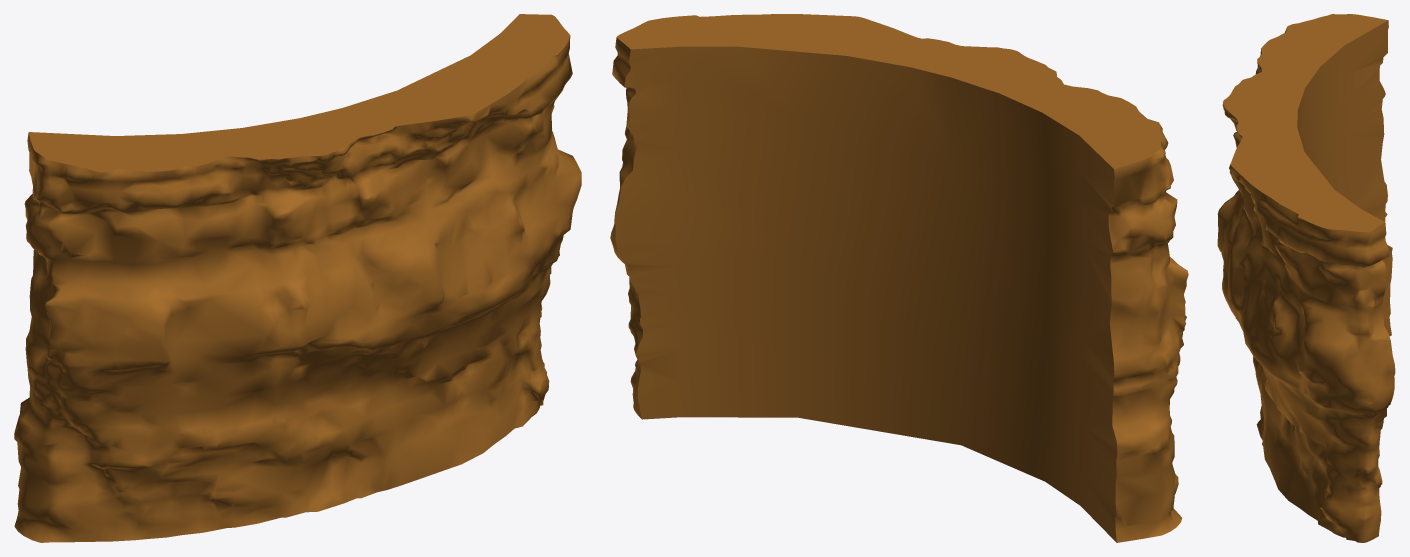
Rendered from MSH_Rocks_Cliff_30.FBX.
The picture shows the model from 3 angles, left to right: view 1: azimuth 30°, elevation 25°; view 2: azimuth 150°, elevation 25°; view 3: azimuth 270°, elevation 25°; orthographic projection. The views are drawn at different scales.
Visible parts, largest first — view 1: MESH_LOD0, CAP_LOD0; view 2: CAP_LOD0, MESH_LOD0; view 3: MESH_LOD0, CAP_LOD0.
Boxes of the visible parts, x1,y1,x2,y2 form: MESH_LOD0: (14, 35, 581, 542); CAP_LOD0: (28, 14, 569, 171); CAP_LOD0: (614, 14, 1161, 542); MESH_LOD0: (610, 37, 1188, 542); MESH_LOD0: (1217, 28, 1395, 542); CAP_LOD0: (1223, 14, 1392, 336).
Size of what is drawn, in the model's own units: 1024 by 661 by 336.
